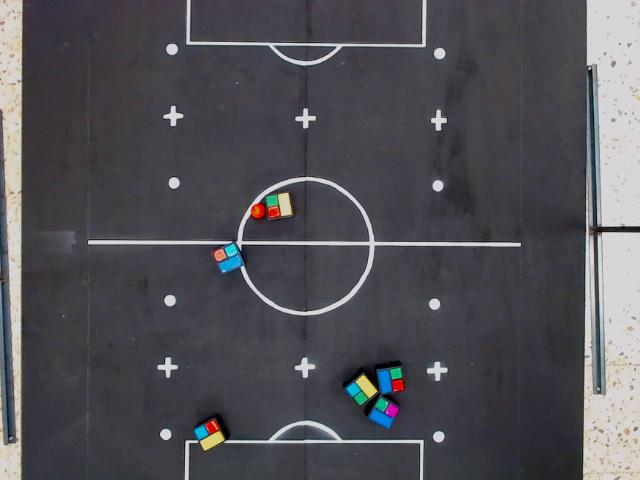robot: (343, 372, 380, 409), (365, 395, 401, 432), (209, 241, 247, 276), (192, 417, 227, 453), (263, 189, 295, 222), (375, 364, 407, 396)
